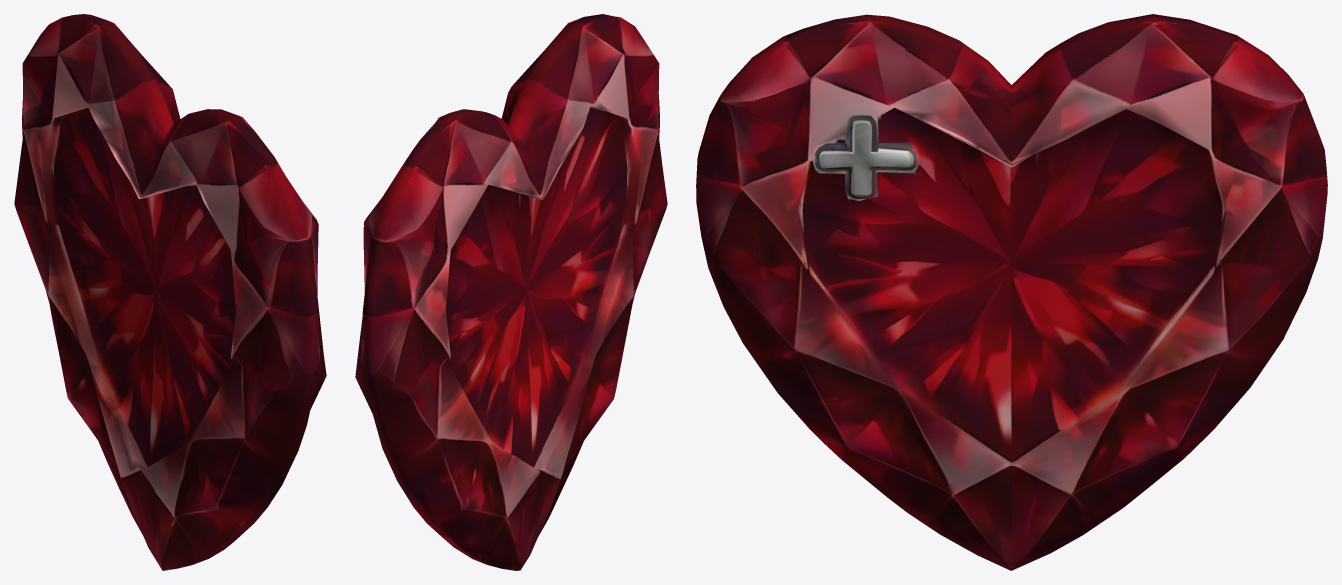
File: heart-shaped+gem+3d+model.obj
The picture shows the model from 3 angles, left to right: view 1: azimuth 30°, elevation 25°; view 2: azimuth 150°, elevation 25°; view 3: azimuth 270°, elevation 25°; orthographic projection. The views are drawn at different scales.
Visible parts, largest first — view 1: tripo_node_65cda8d9-f053-4490-9c08-85c20164180d; view 2: tripo_node_65cda8d9-f053-4490-9c08-85c20164180d; view 3: tripo_node_65cda8d9-f053-4490-9c08-85c20164180d.
Part boxes in pixels (left/top/right/bottom): tripo_node_65cda8d9-f053-4490-9c08-85c20164180d: left=14, top=14, right=326, bottom=570; tripo_node_65cda8d9-f053-4490-9c08-85c20164180d: left=355, top=14, right=667, bottom=570; tripo_node_65cda8d9-f053-4490-9c08-85c20164180d: left=696, top=14, right=1327, bottom=570.
Bounding box in the file's own units: 0.1298 × 0.9597 × 1.
Materials: 1 (1 with a texture image).
